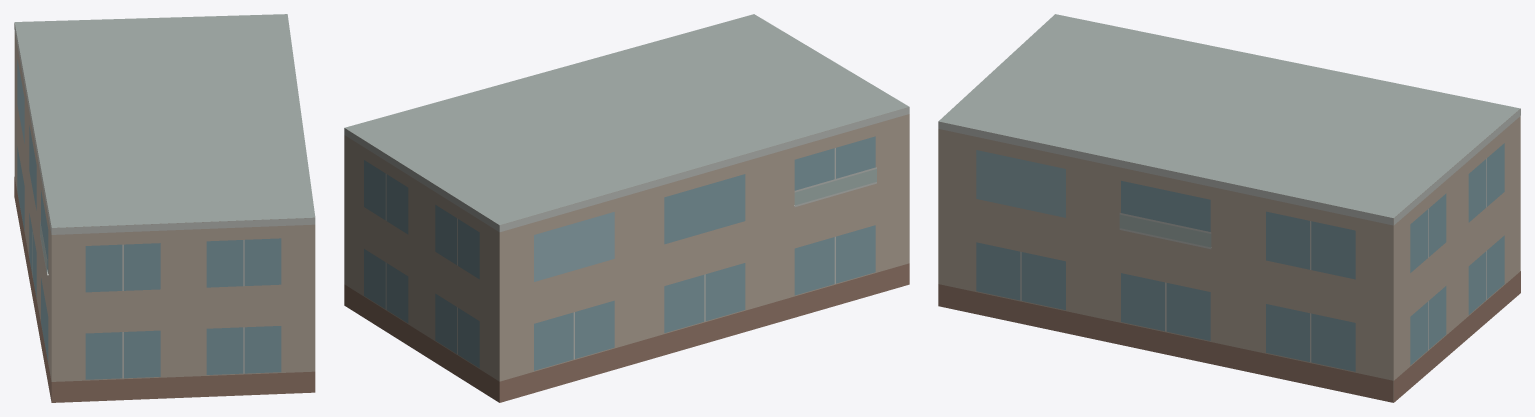
File: survey-upis-32998877.glb
The picture shows the model from 3 angles, left to right: view 1: azimuth 30°, elevation 25°; view 2: azimuth 150°, elevation 25°; view 3: azimuth 270°, elevation 25°; orthographic projection. The views are drawn at different scales.
Visible parts, largest first — view 1: survey-upis-32998877.tmp; view 2: survey-upis-32998877.tmp; view 3: survey-upis-32998877.tmp.
Boxes of the visible parts, x1,y1,x2,y2 form: survey-upis-32998877.tmp: (14, 14, 315, 402); survey-upis-32998877.tmp: (344, 14, 909, 402); survey-upis-32998877.tmp: (938, 14, 1520, 402).
Size of the model in its own units: 14.47 by 6.1 by 17.44.
